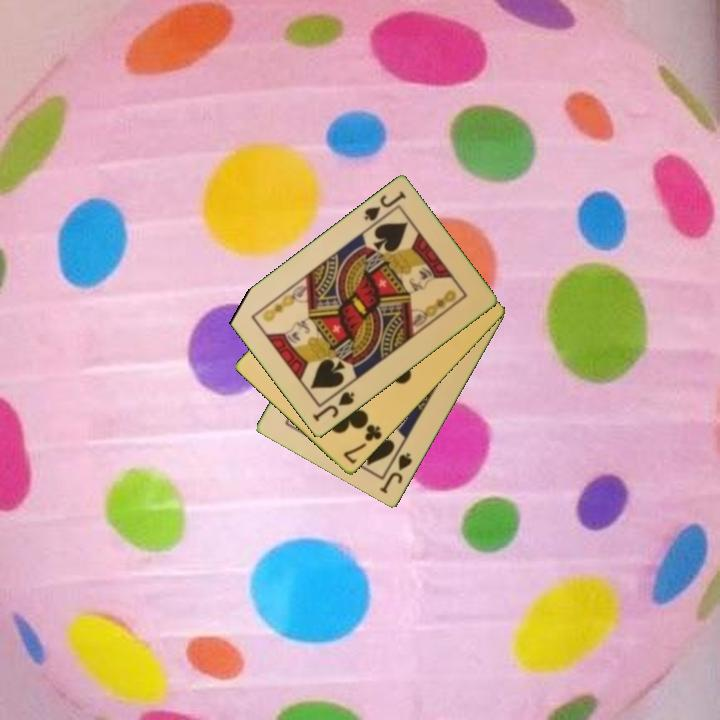7c: (340, 421, 385, 467)
Js: (376, 449, 415, 497), (309, 388, 358, 425), (360, 188, 409, 224)
